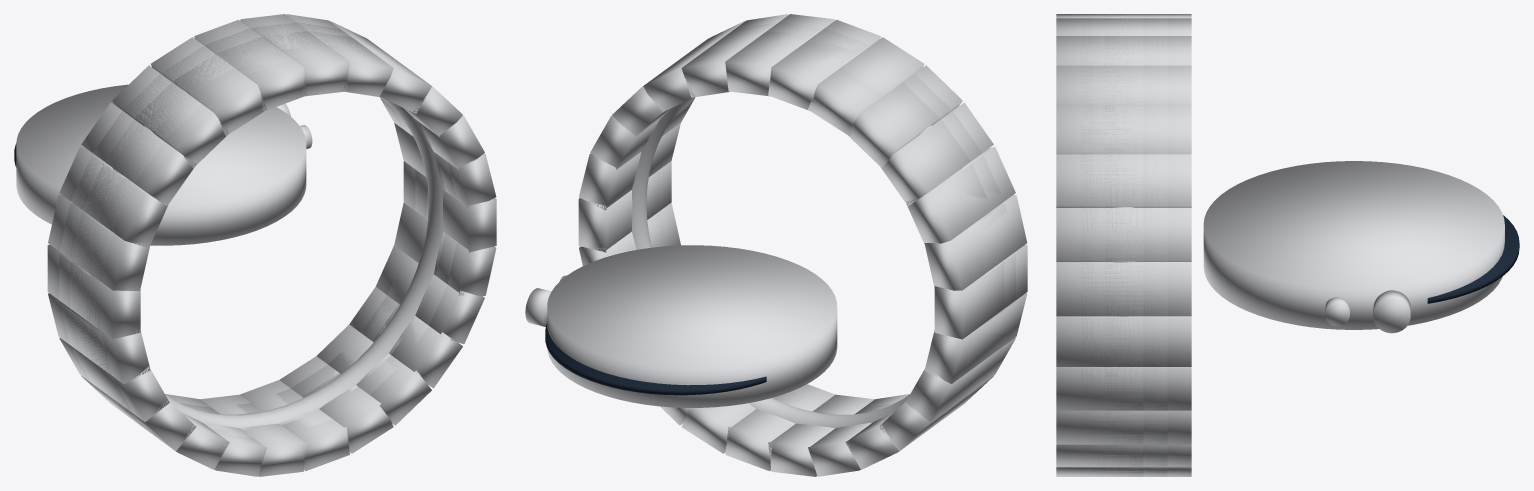
The model's file is watch-blender.glb.
3 views of the same model, side by side, from view 1: azimuth 30°, elevation 25°; view 2: azimuth 150°, elevation 25°; view 3: azimuth 270°, elevation 25° (orthographic). The views are drawn at different scales.
Parts seen in each view (by area): view 1: Case, BandBase, Link_9_-1, Link_10_-1, Link_11_-1, Link_8_-1, Link_12_-1, Link_7_-1, Link_13_-1, Link_6_-1, Link_21_-1, Link_14_-1 (+52 smaller); view 2: Case, BandBase, Link_9_1, Link_10_1, Link_13_1, Link_11_1, Link_7_1, Link_8_1, Screen, Link_8_-1, Link_0_1, Link_6_1 (+42 smaller); view 3: Case, Link_1_-1, Link_2_-1, Link_3_-1, Link_0_-1, Link_4_-1, Link_25_-1, Link_5_-1, Link_2_0, Link_1_0, Link_3_0, Link_0_0 (+27 smaller).
Boxes of the visible parts, bbox=[...] form: Case: bbox=[16, 84, 306, 245]; BandBase: bbox=[113, 90, 443, 428]; Link_9_-1: bbox=[135, 82, 228, 168]; Link_10_-1: bbox=[104, 119, 195, 205]; Link_11_-1: bbox=[82, 164, 168, 247]; Link_8_-1: bbox=[174, 54, 266, 135]; Link_12_-1: bbox=[71, 212, 150, 290]; Link_7_-1: bbox=[218, 36, 306, 111]; Link_13_-1: bbox=[70, 261, 140, 339]; Link_6_-1: bbox=[263, 31, 349, 96]; Link_21_-1: bbox=[302, 373, 393, 453]; Link_14_-1: bbox=[71, 310, 150, 383]; Case: bbox=[547, 245, 837, 407]; BandBase: bbox=[632, 90, 962, 428]; Link_9_1: bbox=[846, 82, 939, 167]; Link_10_1: bbox=[880, 119, 970, 206]; Link_13_1: bbox=[934, 262, 1004, 339]; Link_11_1: bbox=[906, 164, 987, 244]; Link_7_1: bbox=[768, 37, 851, 110]; Link_8_1: bbox=[808, 68, 882, 135]; Screen: bbox=[545, 323, 766, 395]; Link_8_-1: bbox=[841, 37, 924, 95]; Link_0_1: bbox=[578, 184, 648, 252]; Link_6_1: bbox=[725, 31, 802, 96]; Case: bbox=[1203, 161, 1504, 329]; Link_1_-1: bbox=[1056, 262, 1143, 316]; Link_2_-1: bbox=[1056, 208, 1143, 261]; Link_3_-1: bbox=[1056, 154, 1143, 207]; Link_0_-1: bbox=[1056, 316, 1143, 366]; Link_4_-1: bbox=[1056, 106, 1143, 154]; Link_25_-1: bbox=[1056, 367, 1143, 410]; Link_5_-1: bbox=[1056, 65, 1143, 105]; Link_2_0: bbox=[1080, 208, 1167, 261]; Link_1_0: bbox=[1080, 262, 1167, 316]; Link_3_0: bbox=[1080, 154, 1167, 207]; Link_0_0: bbox=[1080, 316, 1167, 366].
Size of the model in its own units: 2.2 by 2.21 by 2.21.
